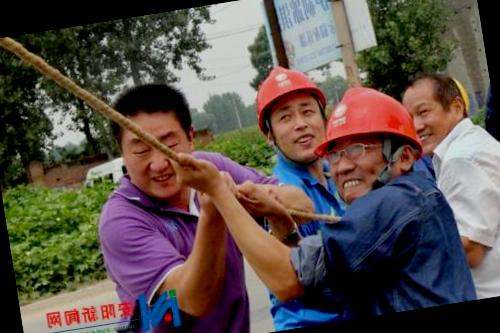no_helmet: (100, 77, 208, 209), (400, 64, 474, 154)
